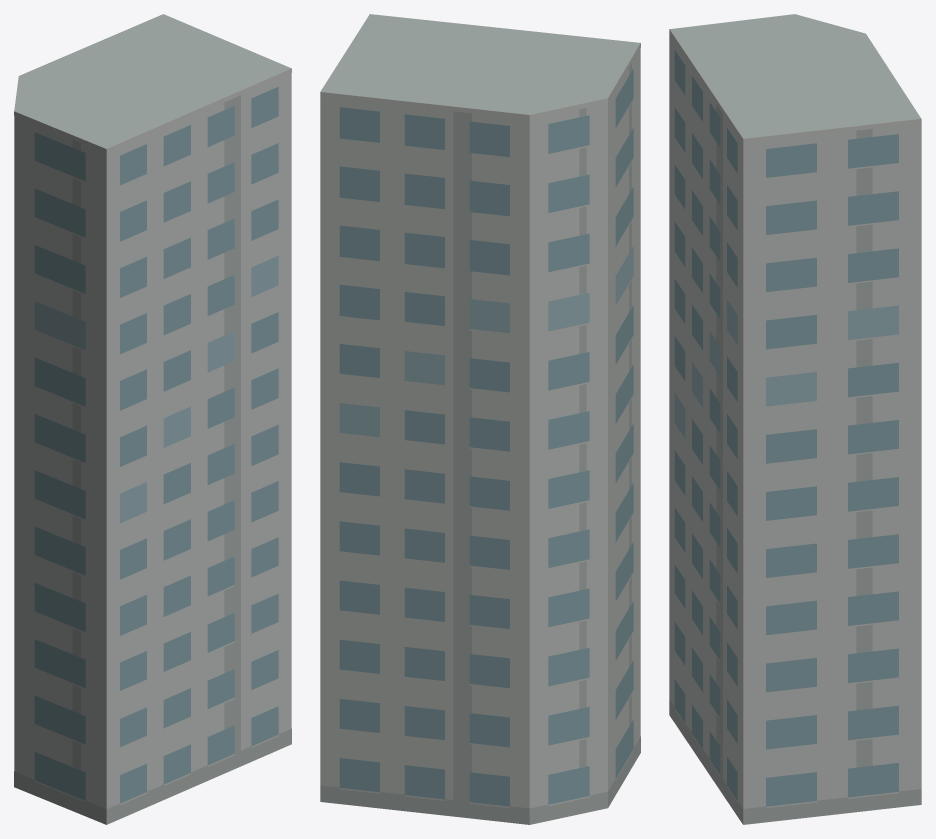
The model's file is survey-upis-32859010.glb.
The picture shows the model from 3 angles, left to right: view 1: azimuth 30°, elevation 25°; view 2: azimuth 150°, elevation 25°; view 3: azimuth 270°, elevation 25°; orthographic projection. The views are drawn at different scales.
Parts seen in each view (by area): view 1: survey-upis-32859010.tmp; view 2: survey-upis-32859010.tmp; view 3: survey-upis-32859010.tmp.
Boxes of the visible parts, x1,y1,x2,y2 form: survey-upis-32859010.tmp: (14,14,291,824); survey-upis-32859010.tmp: (320,14,640,824); survey-upis-32859010.tmp: (669,14,921,824).
Size of the model in its own units: 14.3 by 36.6 by 12.2.
